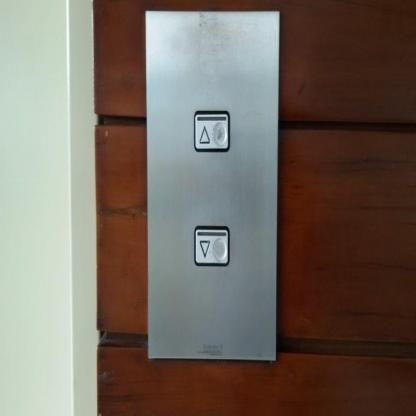down: (192, 222, 230, 268)
up: (193, 106, 232, 156)
